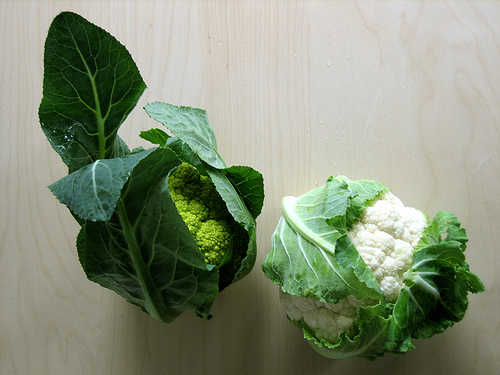cauliflower: (261, 176, 483, 361)
